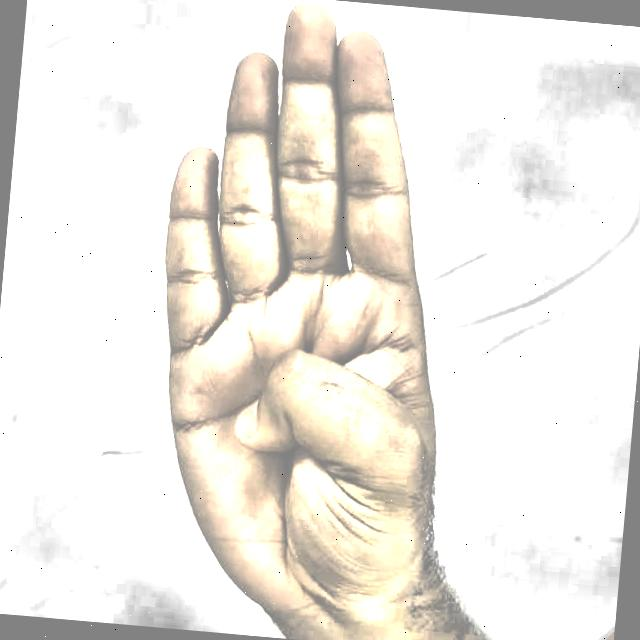Ba: (70, 0, 521, 640)
